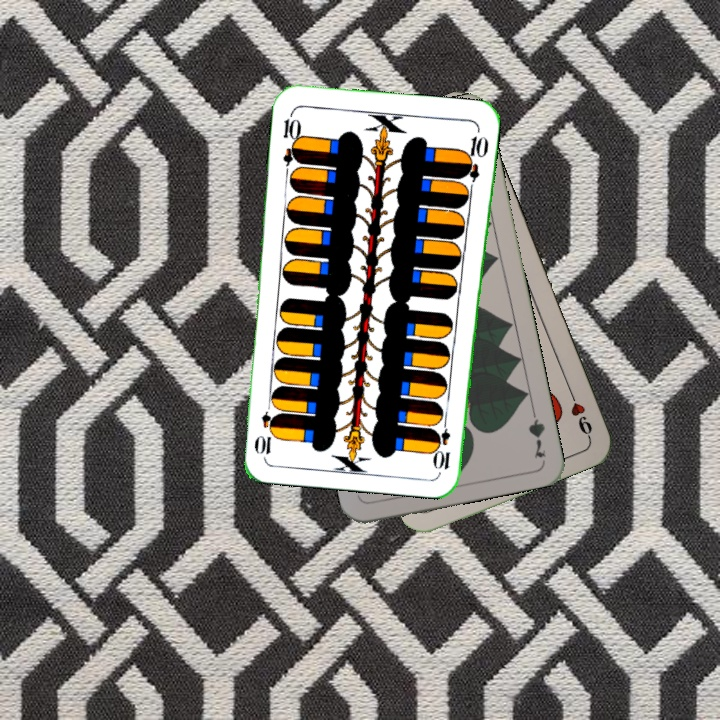E10: (278, 108, 304, 167), (433, 413, 453, 472)
G7: (524, 402, 548, 461)
H9: (564, 384, 595, 440)
